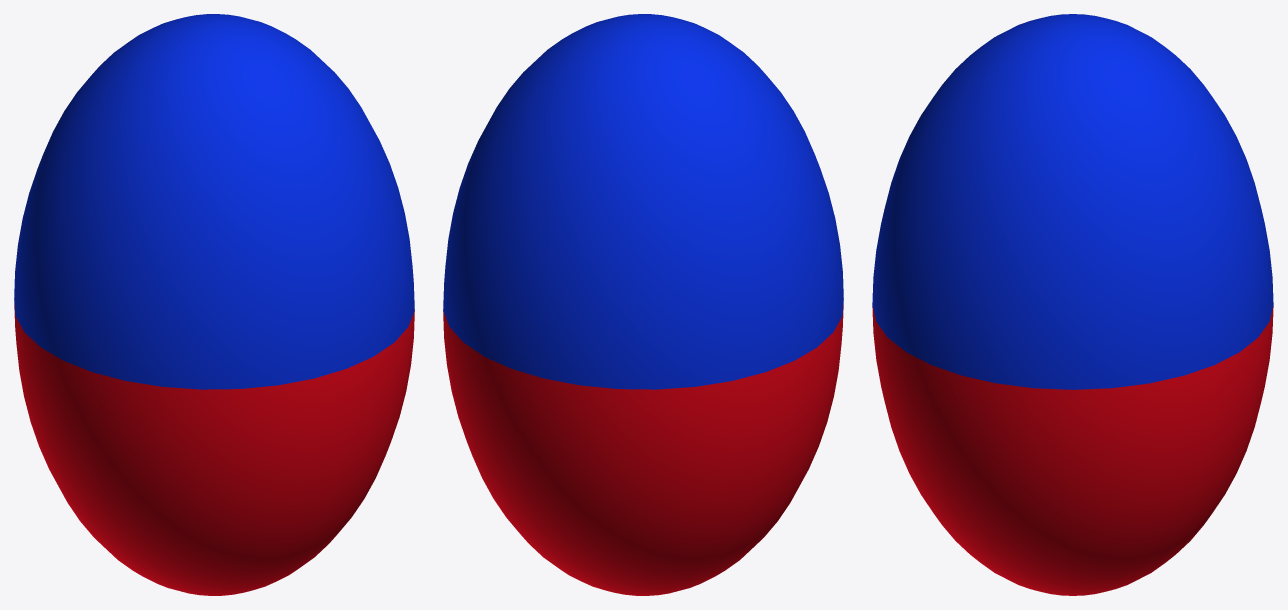
File: smooth_sphere_4.glb
3 renders of one model, left to right at view 1: azimuth 30°, elevation 25°; view 2: azimuth 150°, elevation 25°; view 3: azimuth 270°, elevation 25°, orthographic.
Visible parts, largest first — view 1: Sphere.003, Sphere.004; view 2: Sphere.003, Sphere.004; view 3: Sphere.003, Sphere.004.
Boxes of the visible parts, x1,y1,x2,y2 form: Sphere.003: (14, 14, 414, 389); Sphere.004: (14, 304, 414, 595); Sphere.003: (443, 14, 843, 389); Sphere.004: (443, 304, 843, 595); Sphere.003: (872, 14, 1273, 389); Sphere.004: (872, 305, 1273, 595).
Bounding box in the file's own units: 1.82 × 2.78 × 1.82.
